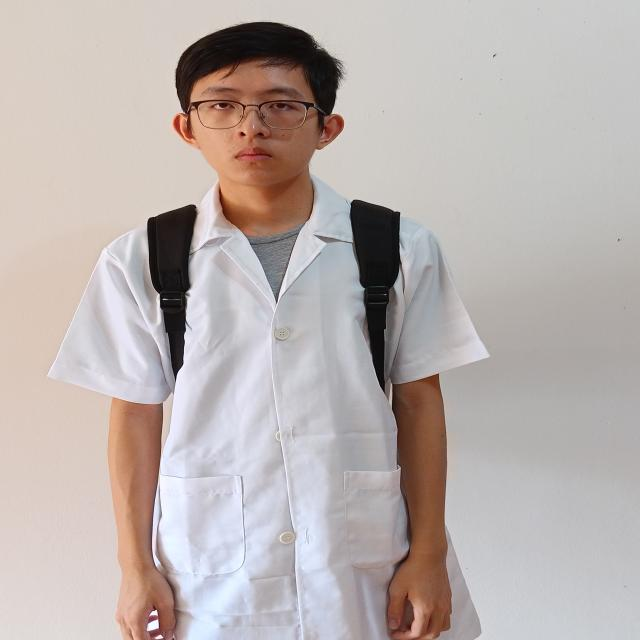person_with_labcoat: (49, 23, 487, 640)
